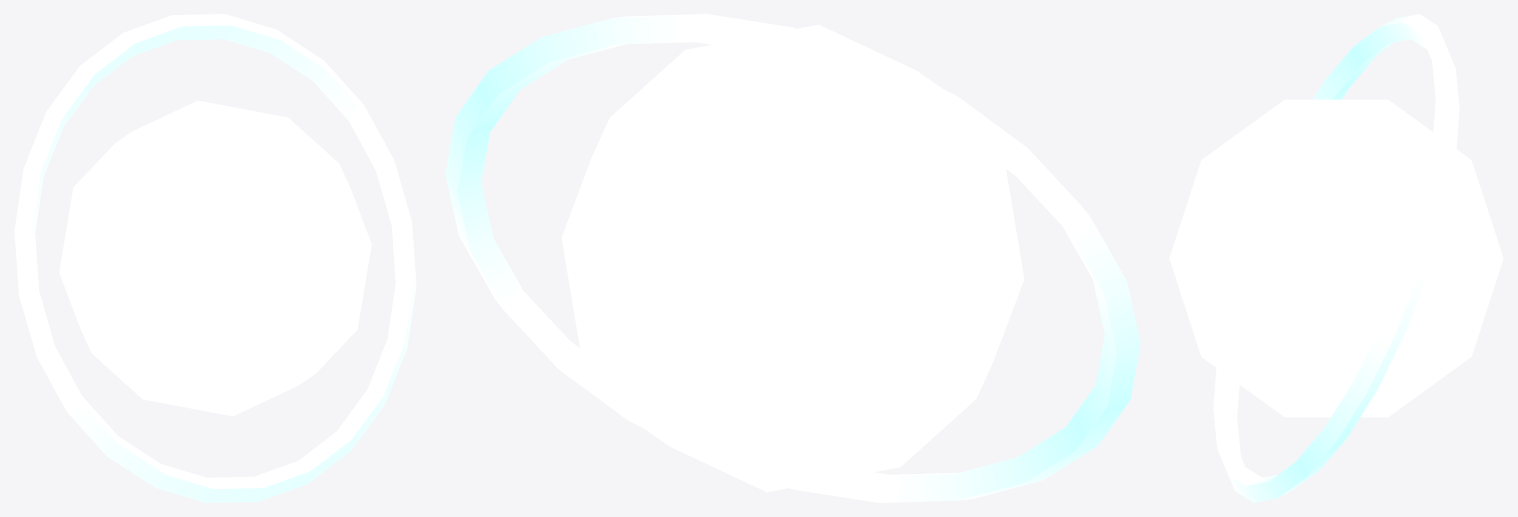
The model's file is ball.glb.
The picture shows the model from 3 angles, left to right: view 1: azimuth 30°, elevation 25°; view 2: azimuth 150°, elevation 25°; view 3: azimuth 270°, elevation 25°; orthographic projection. The views are drawn at different scales.
Visible parts, largest first — view 1: ball, ring; view 2: ball, ring; view 3: ball, ring.
Boxes of the visible parts, x1,y1,x2,y2 form: ball: (59,100,371,416); ring: (14,14,416,502); ball: (561,24,1024,492); ring: (445,14,1140,502); ball: (1169,99,1503,417); ring: (1213,14,1459,502).
Bounding box in the file's own units: 0.4577 × 0.4164 × 0.3.
